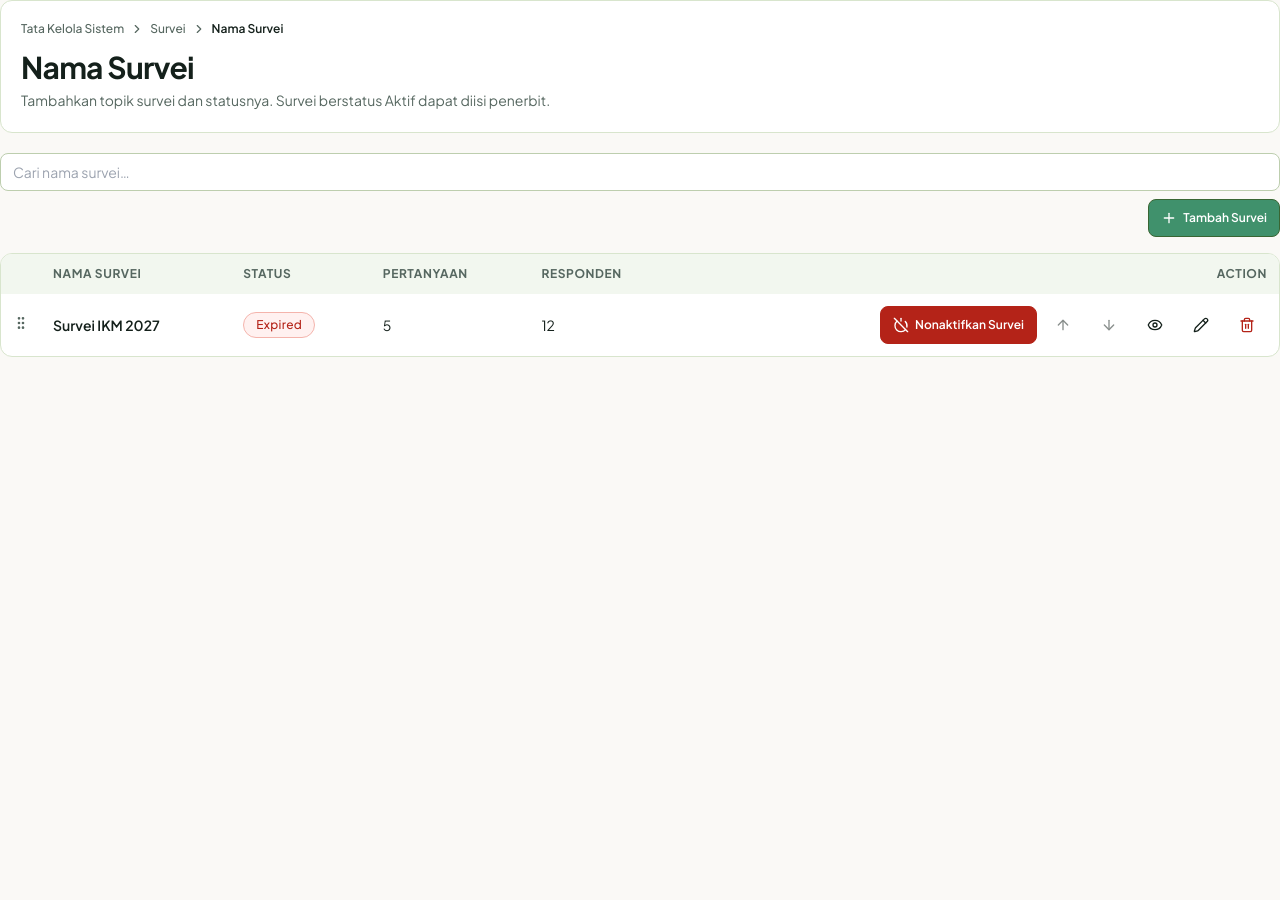
Scenario: SurveyManagementPage (Super Admin) › Edit survei yang sudah punya pertanyaan boleh diubah ke Aktif; Lihat menampilkan detail
Step 1. Click the button named "Edit Survei IKM 2027" → (1201, 325), box [1181,306,1221,344]
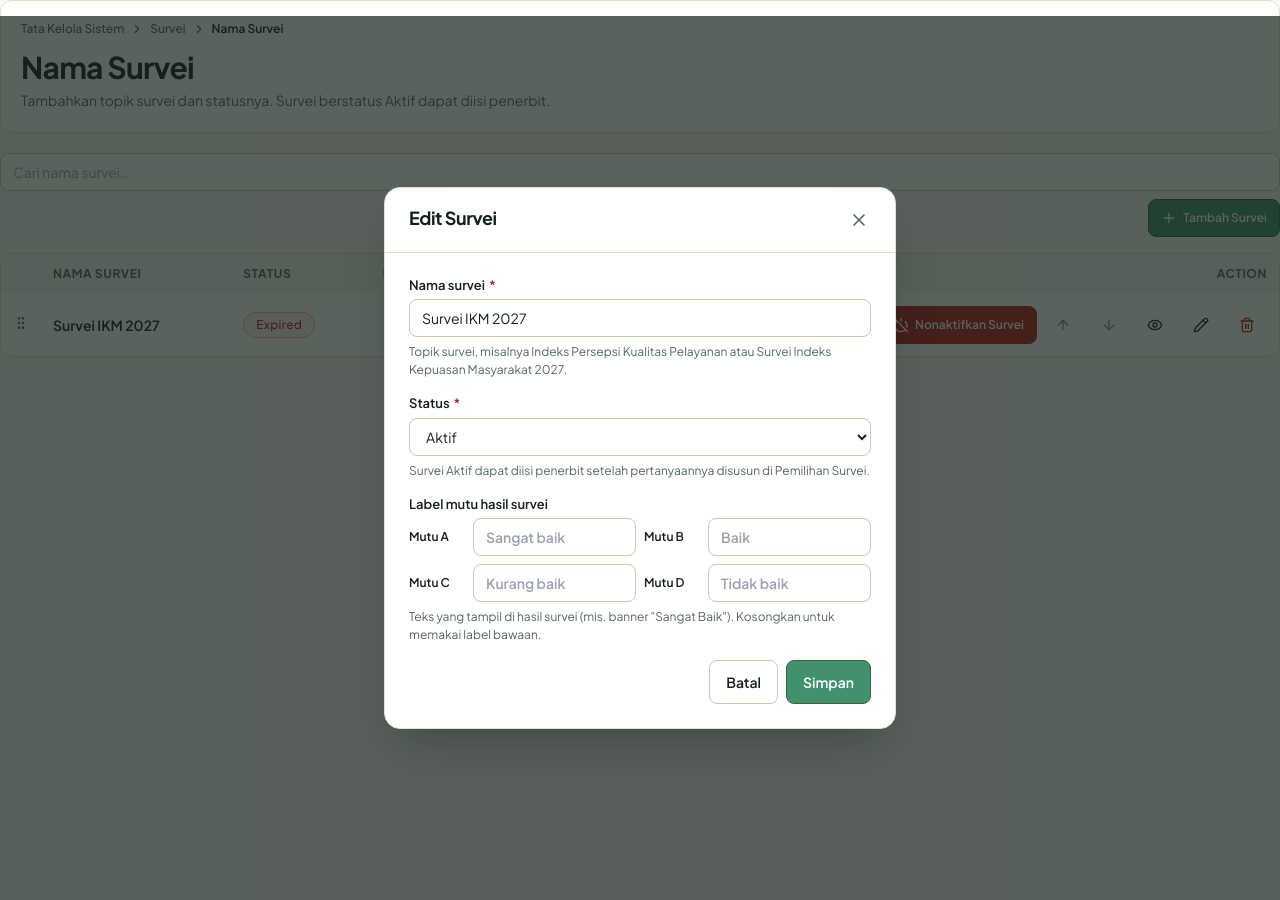
Step 2. Select "Expired" in the dropdown labelled "Status*" → (640, 437), box [409,418,871,456]
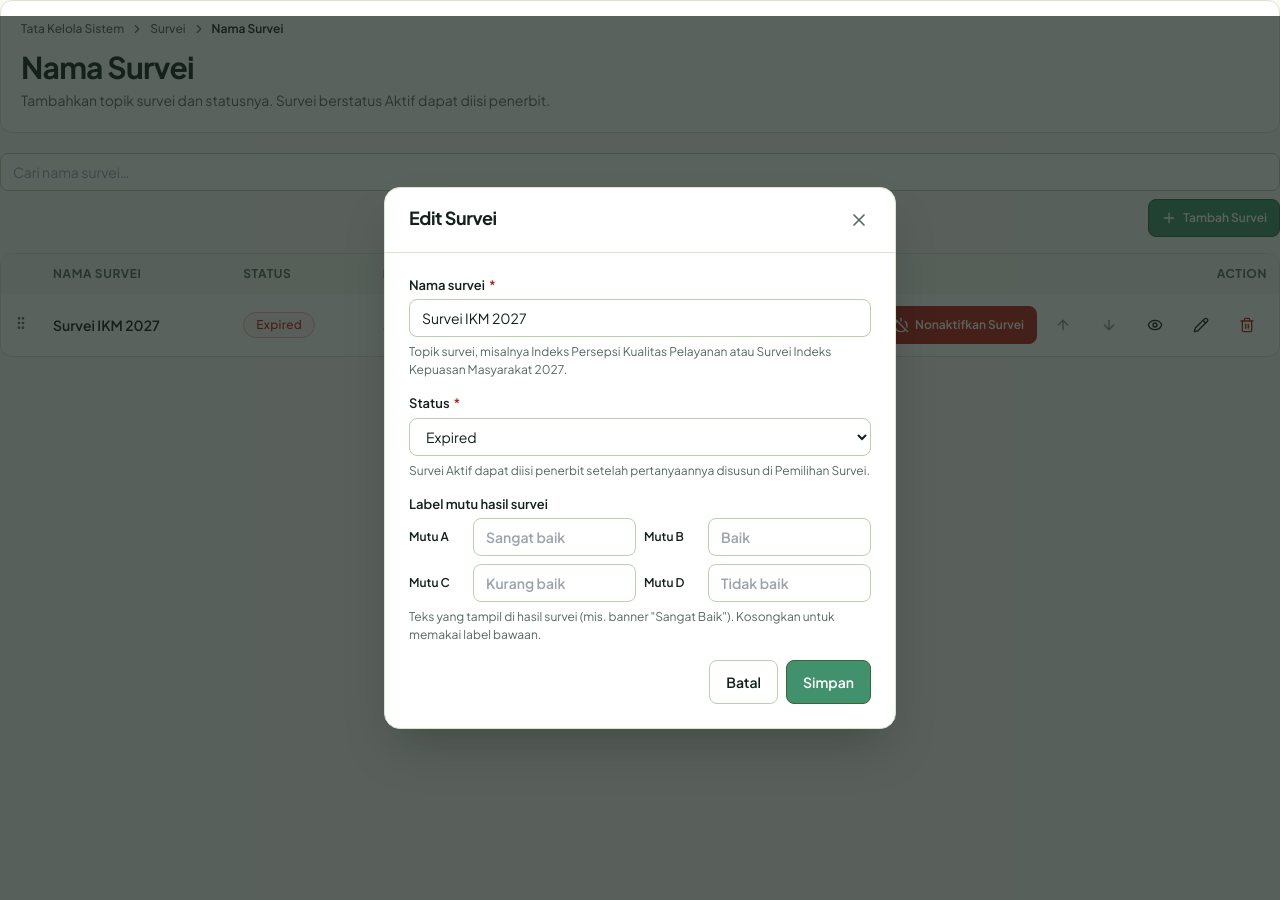
Step 3. Type "Sangat Memuaskan" into the field named "Label mutu A" → (554, 537), box [473,518,636,556]
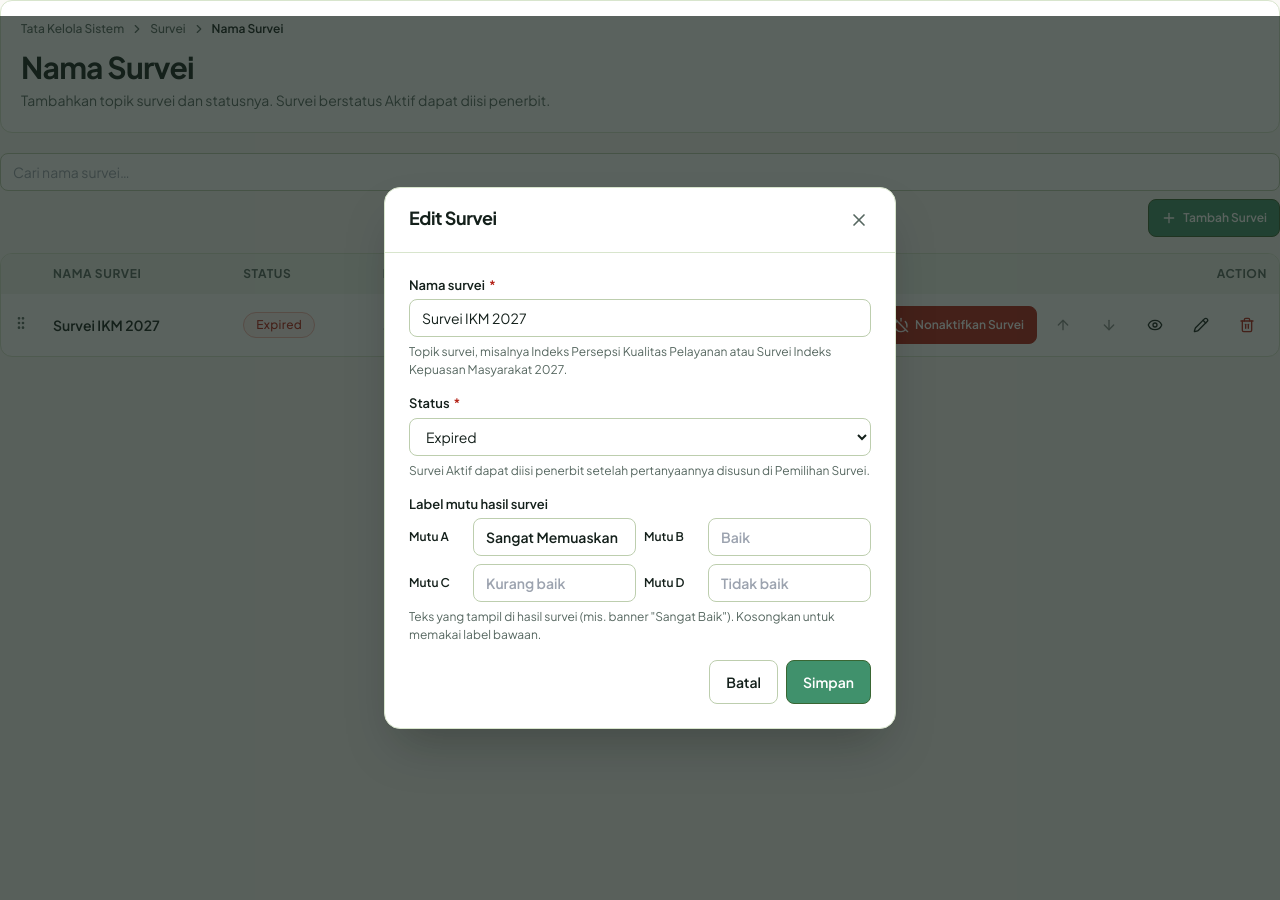
Step 4. Click the button "Simpan" → (828, 682), box [786,660,871,704]
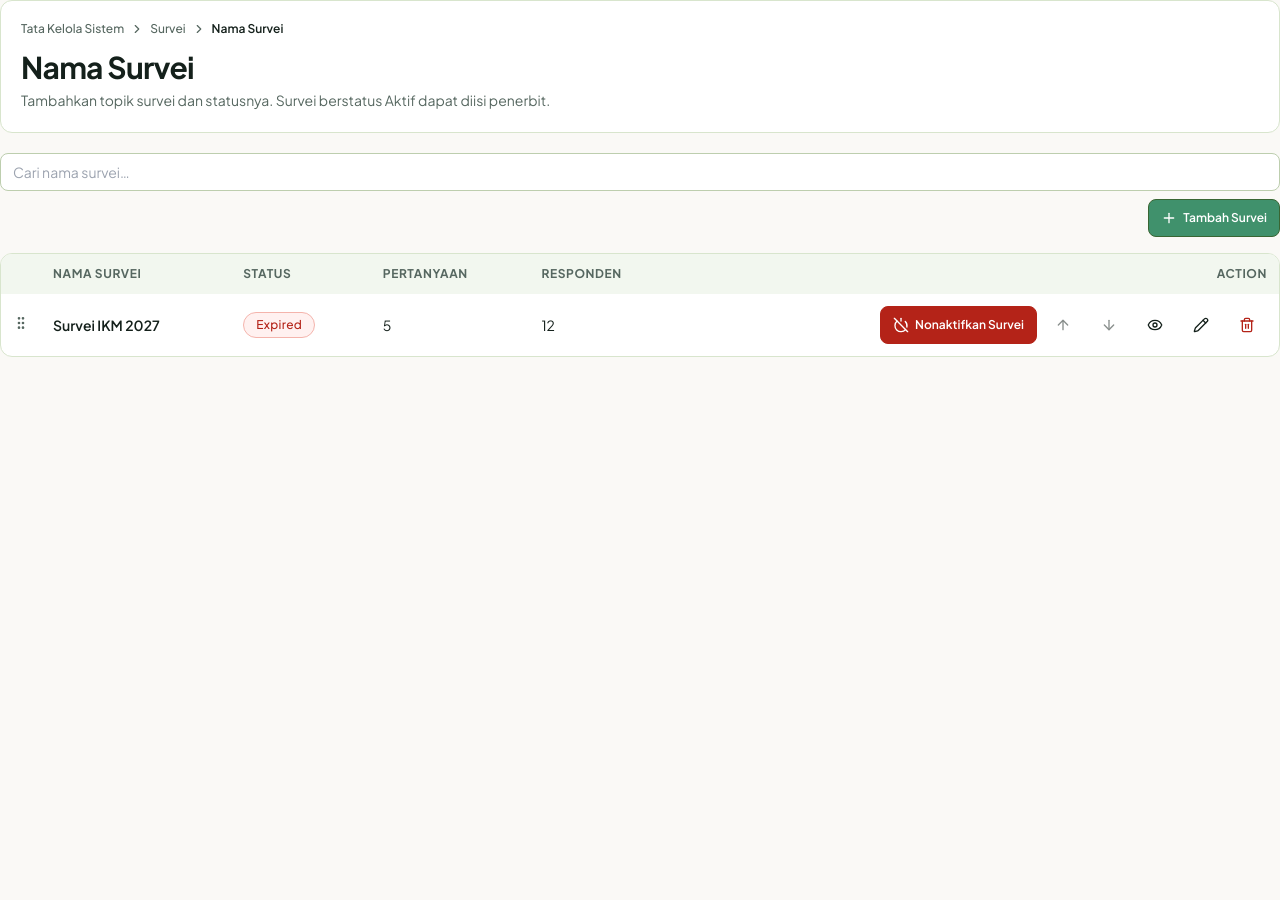
Step 5. Click the button named "Lihat Survei IKM 2027" → (1155, 325), box [1135,306,1175,344]
(page scrolled)
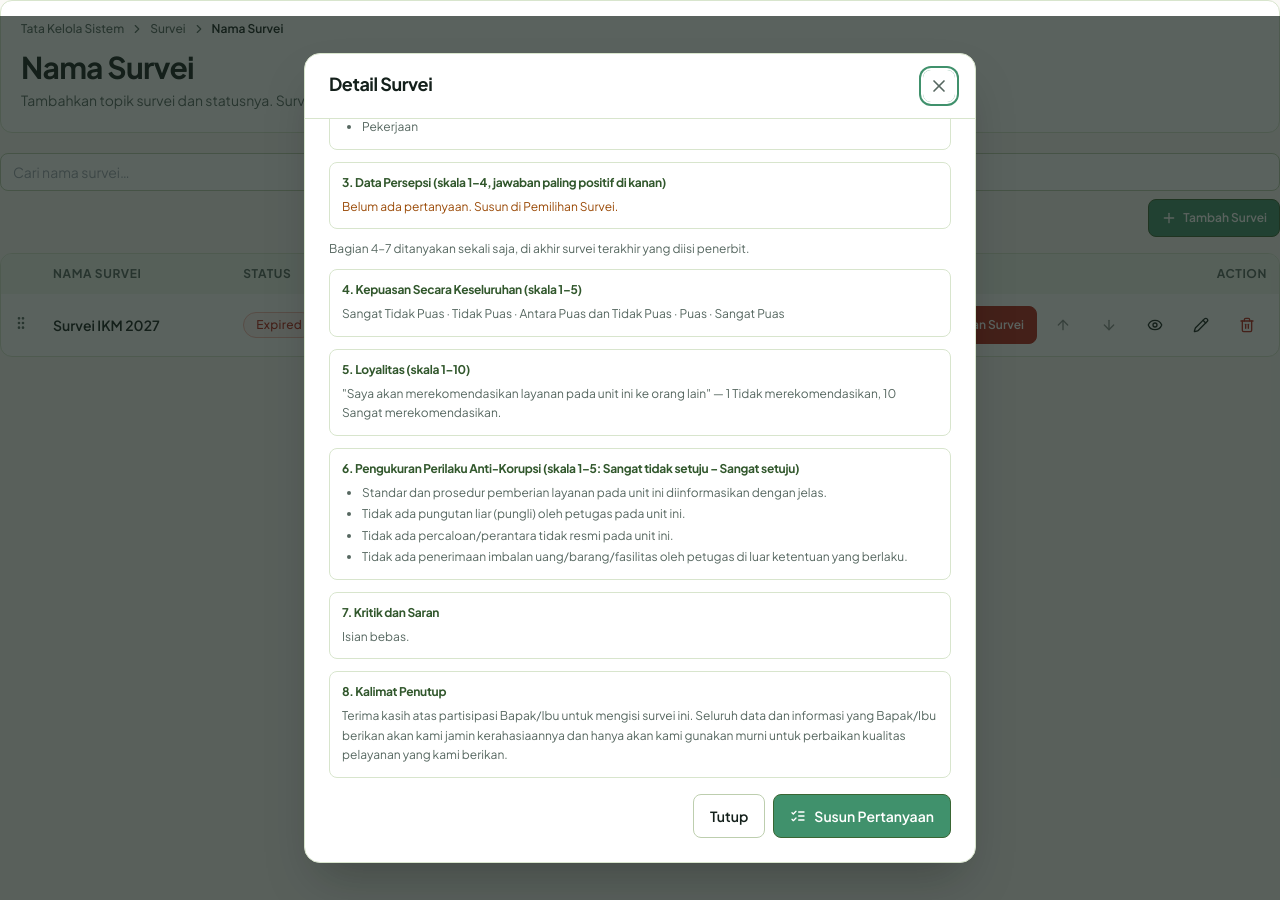
Result: the heading "Detail Survei" is shown at [329,70,432,98]
Result: the heading "4. Kepuasan Secara Keseluruhan (skala 1–5)" is shown at [342,282,582,297]
Result: the heading "5. Loyalitas (skala 1–10)" is shown at [342,362,470,376]
Step 6. Click the button "Susun Pertanyaan" → (862, 816), box [773,794,951,838]
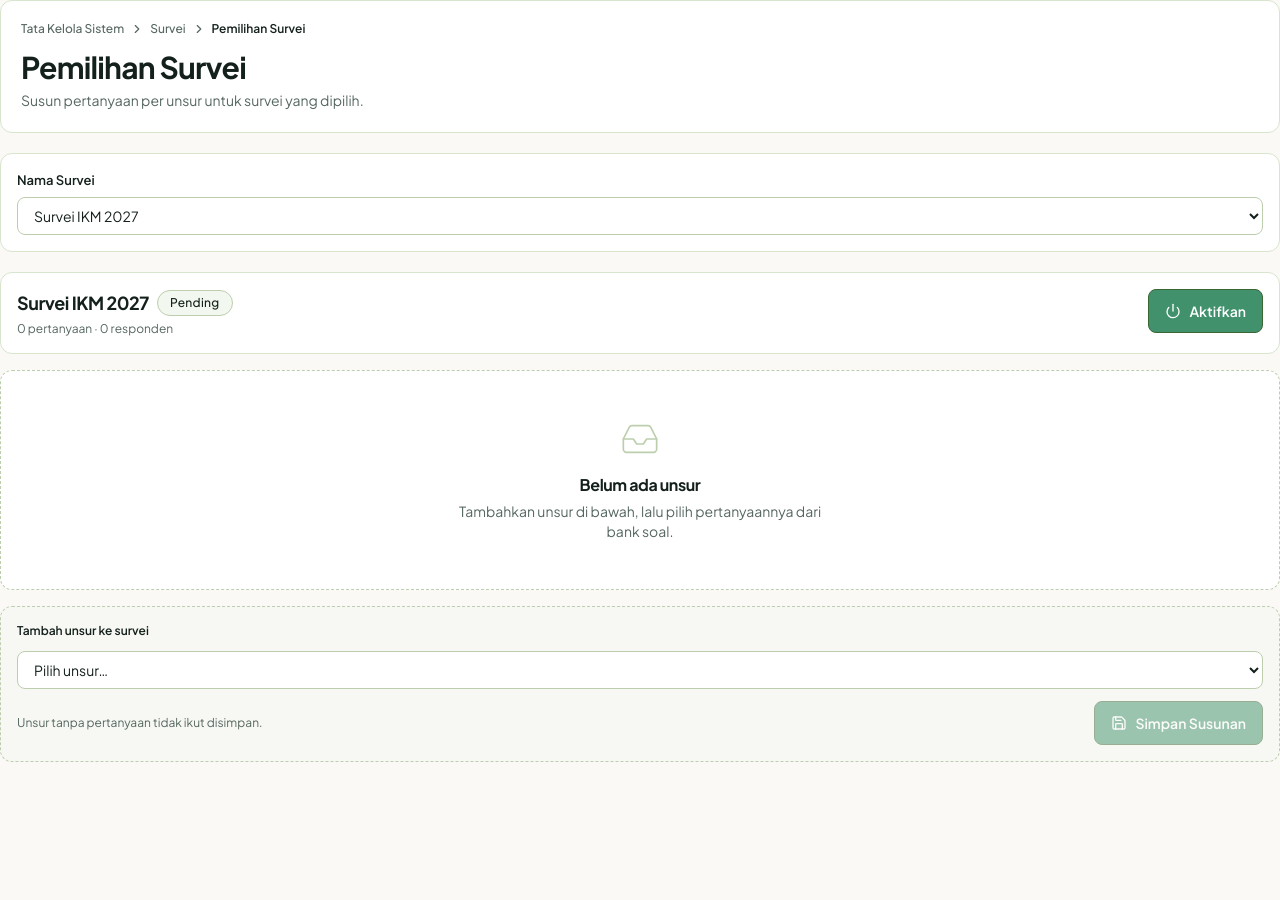
Result: the heading "Pemilihan Survei" is shown at [21,49,246,85]
